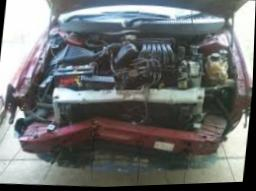Bumper: (31, 108, 243, 161)
